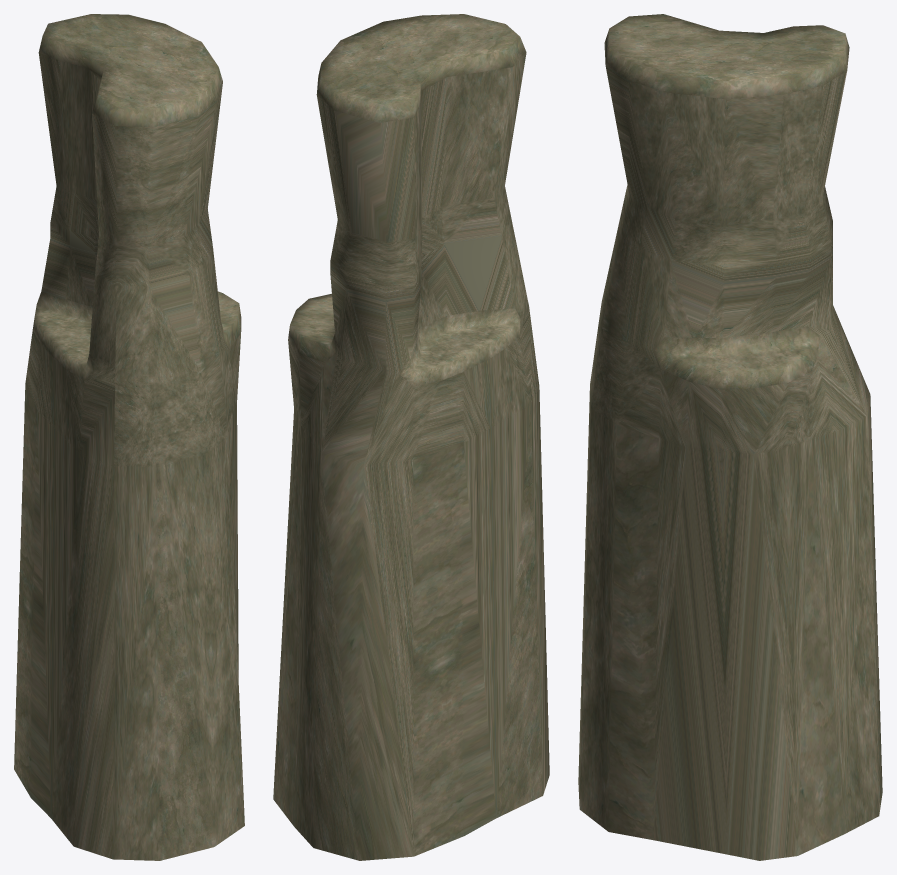
File: OVERHILL_A_01_CAVE_PLATFORM01.fbx
3 renders of one model, left to right at view 1: azimuth 30°, elevation 25°; view 2: azimuth 150°, elevation 25°; view 3: azimuth 270°, elevation 25°, orthographic. The views are drawn at different scales.
Visible parts, largest first — view 1: OVERHILL_A_01_CAVE_PLATFORM01; view 2: OVERHILL_A_01_CAVE_PLATFORM01; view 3: OVERHILL_A_01_CAVE_PLATFORM01.
Boxes of the visible parts, x1,y1,x2,y2 form: OVERHILL_A_01_CAVE_PLATFORM01: (14, 14, 244, 860); OVERHILL_A_01_CAVE_PLATFORM01: (273, 14, 549, 860); OVERHILL_A_01_CAVE_PLATFORM01: (578, 14, 882, 860).
Bounding box in the file's own units: 49149 × 166923 × 60753.
1 material, 1 textured.
